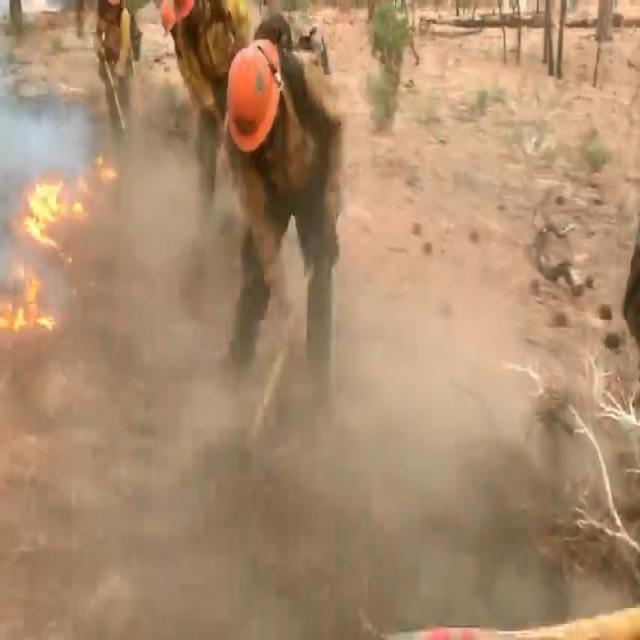Fire: (0, 127, 114, 356)
